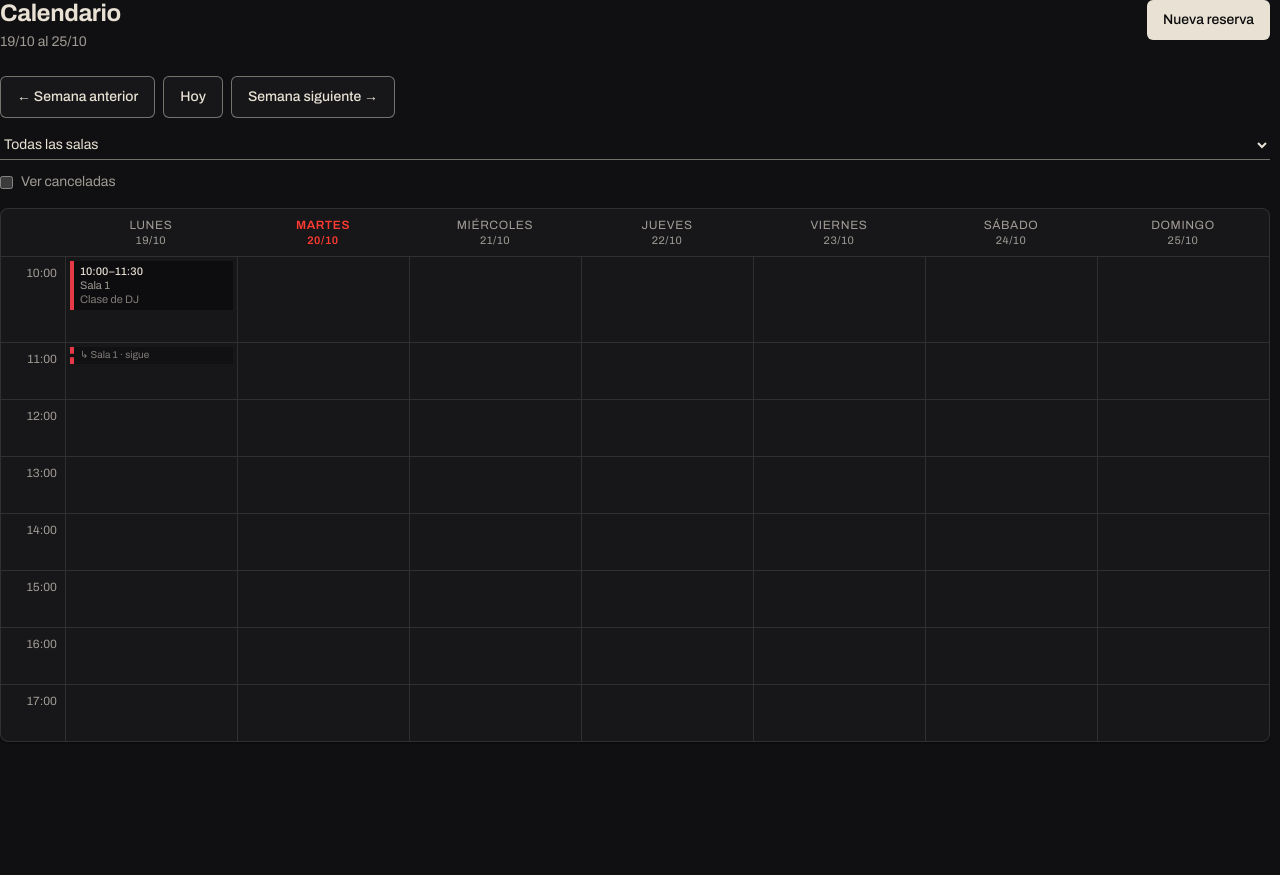
Test: la grilla › avisa cuando un participante no descuenta clases
The image size is (1280, 875).
Step 1. Click the text "10:00–11:30" → (112, 271), box 80,265 -> 143,277
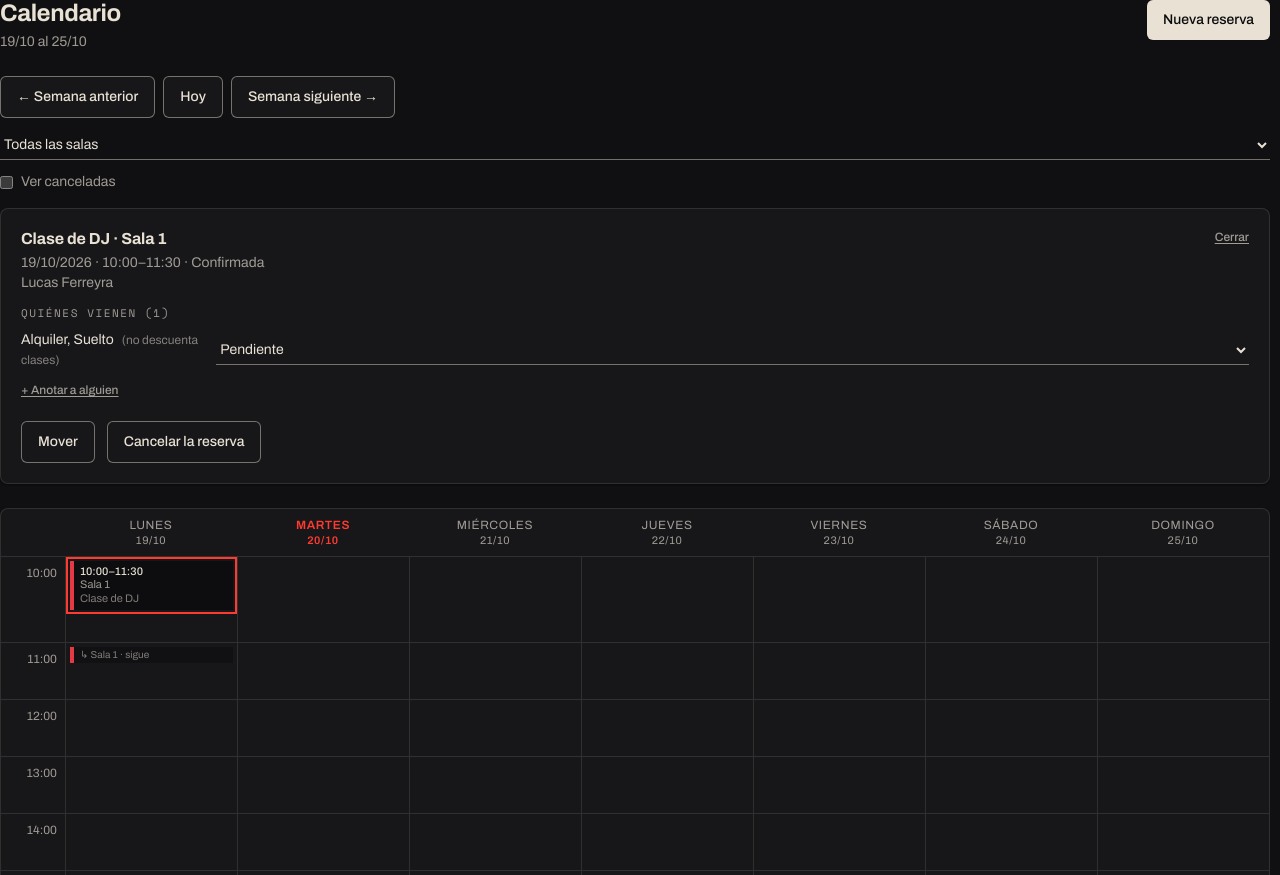
Expected: the text "(no descuenta clases)" is shown, 21,333 -> 198,367
